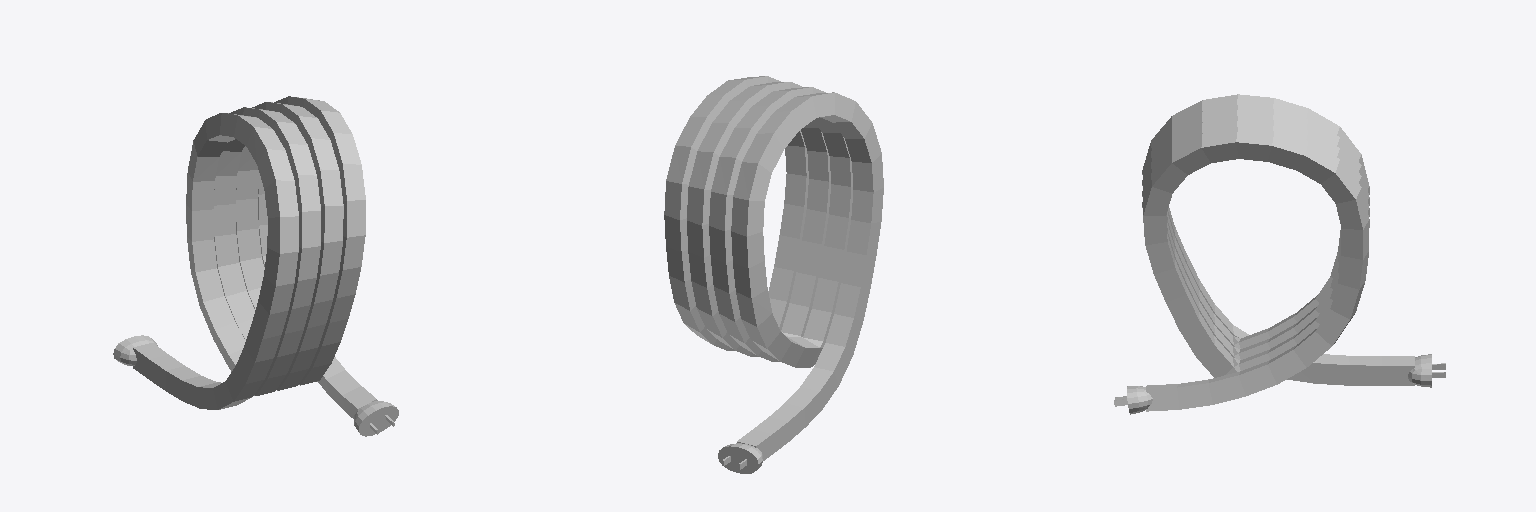
The model's file is rope100.obj.
3 views of the same model, side by side, from view 1: azimuth 30°, elevation 25°; view 2: azimuth 150°, elevation 25°; view 3: azimuth 270°, elevation 25° (orthographic).
Parts seen in each view (by area): view 1: 立方体.012_立方体.016; view 2: 立方体.012_立方体.016; view 3: 立方体.012_立方体.016.
Part boxes in pixels (left/top/right/bottom): 立方体.012_立方体.016: left=113, top=96, right=398, bottom=436; 立方体.012_立方体.016: left=664, top=76, right=883, bottom=473; 立方体.012_立方体.016: left=1114, top=94, right=1445, bottom=414.
Bounding box in the file's own units: 0.5934 × 1.28 × 1.28.